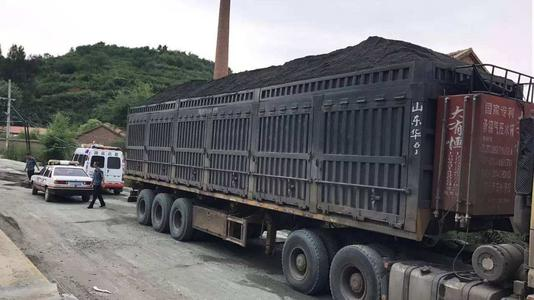chaozhai: (122, 48, 520, 300)
